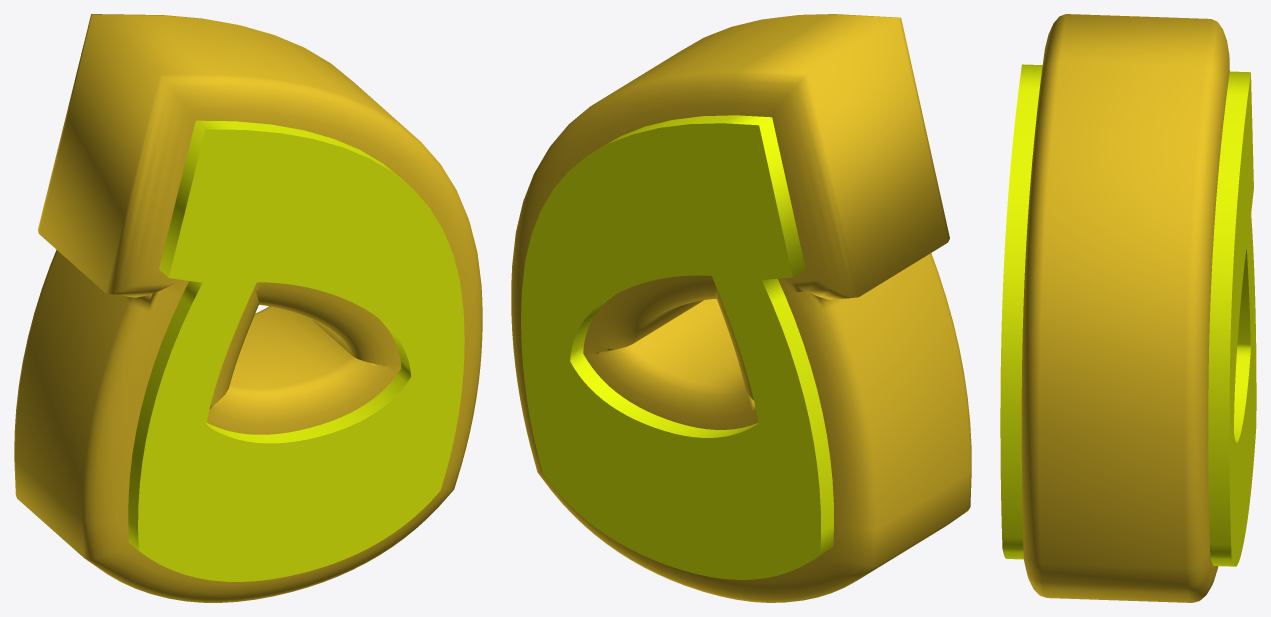
The picture shows the model from 3 angles, left to right: view 1: azimuth 30°, elevation 25°; view 2: azimuth 150°, elevation 25°; view 3: azimuth 270°, elevation 25°; orthographic projection. The views are drawn at different scales.
Parts seen in each view (by area): view 1: text 2, Text; view 2: text 2, Text; view 3: text 2, Text.
Boxes of the visible parts, <box> form: text 2: <box>14,14,482,602</box>; Text: <box>128,120,464,581</box>; text 2: <box>511,14,971,602</box>; Text: <box>521,115,833,579</box>; text 2: <box>1021,14,1229,602</box>; Text: <box>1000,64,1256,566</box>.
Size of the model in its own units: 22.4 by 29.65 by 13.56.
